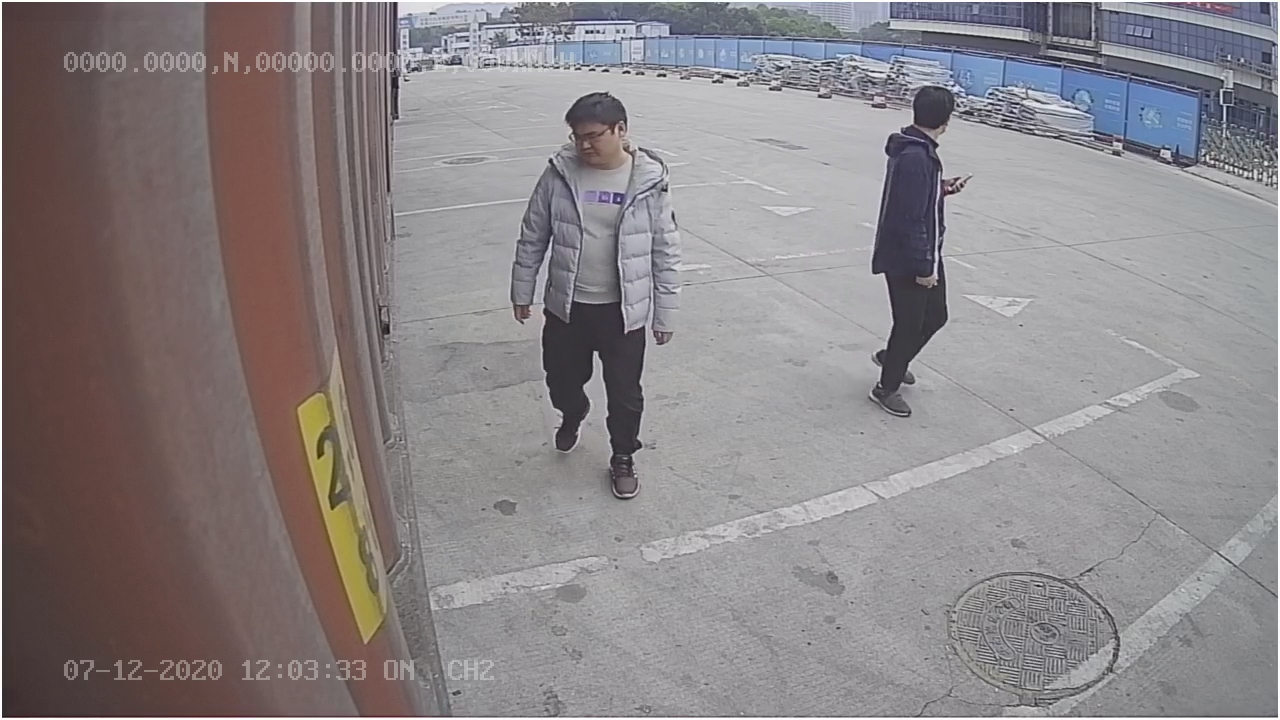person: (512, 88, 686, 505), (863, 79, 973, 419)
